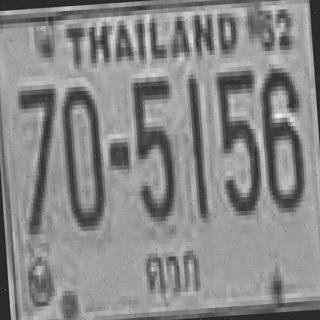N00: (58, 81, 105, 228)
N01: (186, 74, 206, 218)
N05: (130, 74, 178, 220), (213, 66, 260, 212)
N06: (256, 62, 303, 209)
N07: (15, 82, 62, 233)
P69: (139, 239, 203, 300)
